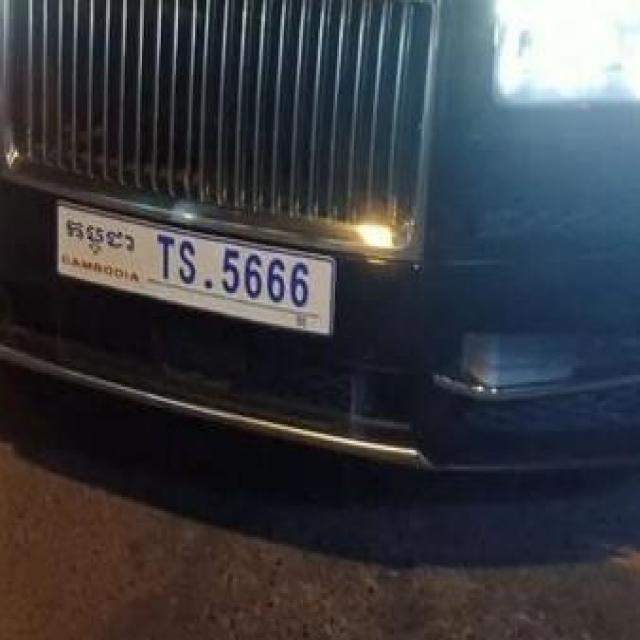Cambodia: (65, 216, 141, 262)
